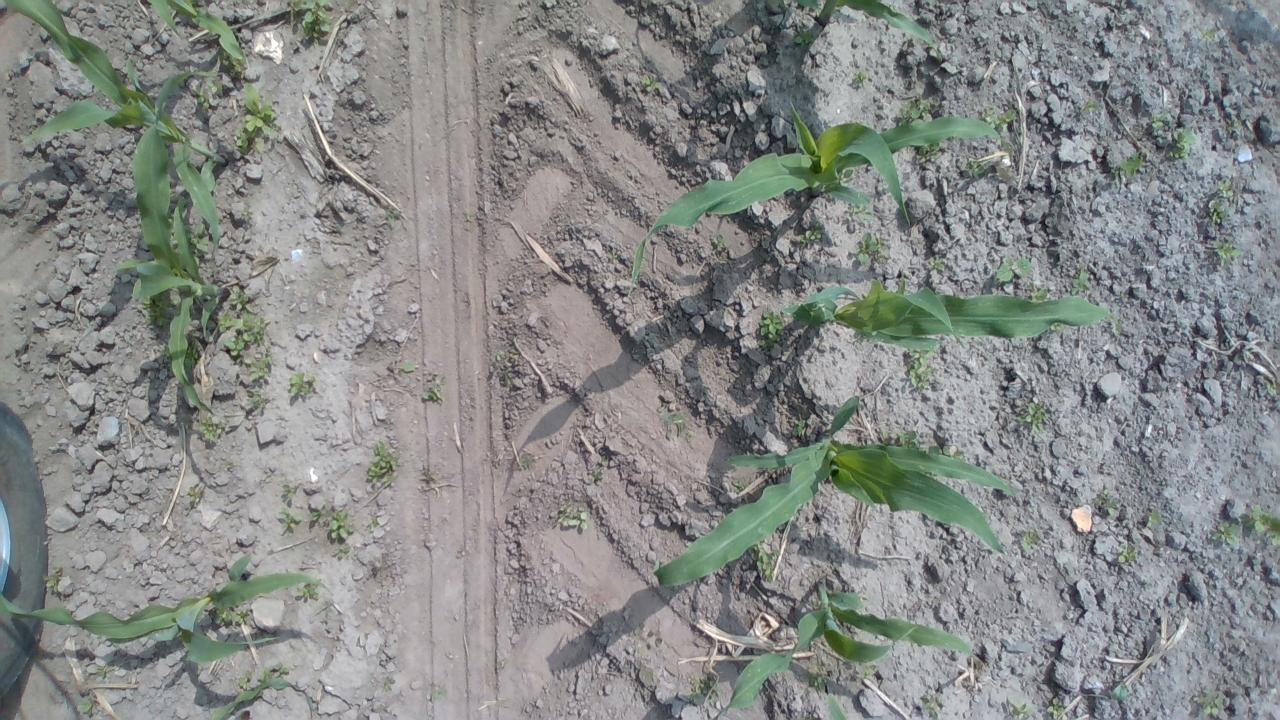Maize: (619, 97, 1010, 300), (642, 388, 1028, 591), (2, 0, 245, 282), (0, 550, 330, 718), (710, 569, 986, 720), (117, 197, 235, 472), (784, 268, 1122, 358), (780, 0, 954, 60), (142, 0, 270, 67)
Weeds: (214, 290, 274, 356), (229, 84, 284, 154), (1148, 110, 1202, 162), (976, 105, 1026, 160), (234, 660, 295, 701), (900, 340, 944, 395), (1242, 498, 1280, 554), (746, 537, 784, 590), (290, 1, 338, 40), (1206, 177, 1236, 232), (990, 254, 1034, 291), (363, 439, 399, 482), (1204, 516, 1244, 553), (207, 602, 259, 630), (687, 666, 723, 706), (494, 351, 530, 388), (140, 292, 172, 332), (284, 369, 320, 404), (853, 232, 885, 271), (657, 403, 688, 442), (1019, 396, 1052, 432), (1112, 151, 1148, 184), (755, 306, 786, 342), (1012, 524, 1044, 558), (189, 80, 220, 115), (560, 500, 590, 536), (1204, 238, 1242, 266), (894, 102, 930, 131), (326, 509, 356, 543), (1196, 690, 1230, 720), (1090, 487, 1121, 519), (796, 223, 829, 253), (243, 390, 276, 420), (198, 413, 228, 446), (292, 576, 326, 605), (43, 562, 73, 594), (1066, 263, 1092, 299), (278, 474, 305, 506), (421, 373, 447, 406), (244, 352, 272, 382), (892, 426, 924, 452), (1112, 542, 1141, 570), (918, 694, 949, 720), (999, 696, 1034, 719), (71, 692, 99, 720), (788, 415, 819, 440), (1025, 282, 1059, 304), (731, 476, 760, 501), (277, 509, 302, 537), (1044, 696, 1073, 720), (1085, 94, 1113, 118), (380, 205, 406, 230), (1220, 114, 1246, 138), (1140, 502, 1160, 532), (918, 136, 948, 156), (640, 74, 665, 98), (187, 485, 207, 512), (927, 254, 950, 277), (304, 503, 328, 524), (808, 670, 832, 690), (1110, 682, 1132, 702), (1199, 26, 1221, 46), (709, 233, 731, 253), (429, 688, 456, 704), (366, 510, 382, 536), (584, 468, 608, 485), (793, 29, 810, 52), (856, 65, 870, 90), (333, 544, 354, 559), (396, 360, 420, 373), (858, 667, 877, 683)
